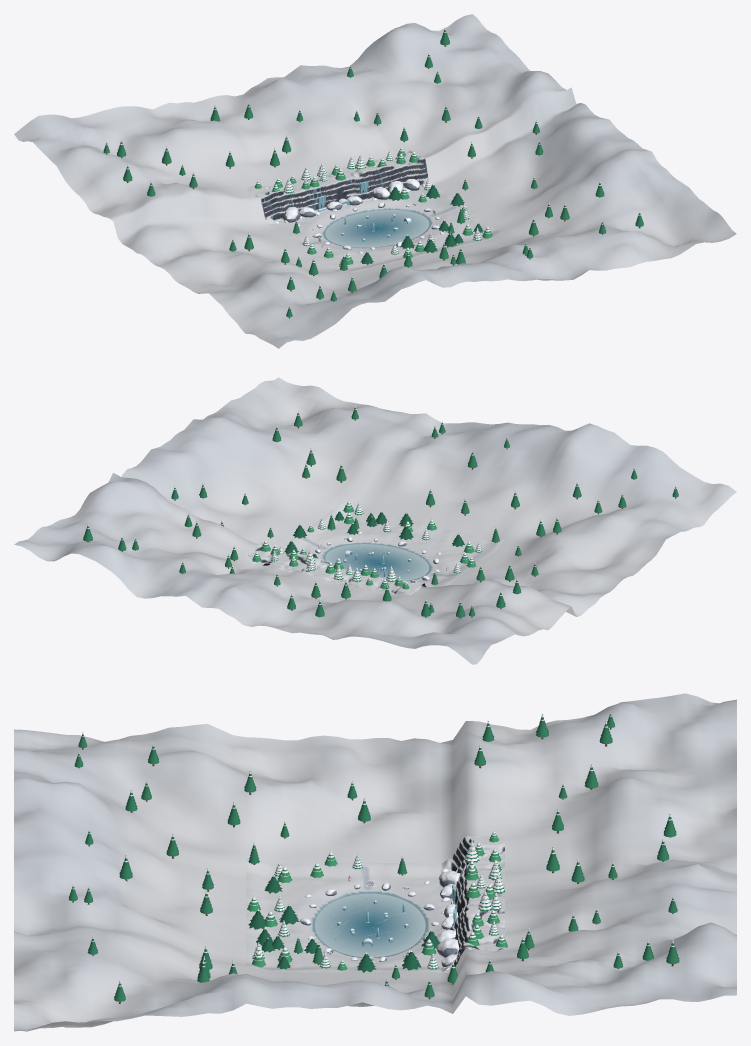
The model's file is ice_lake.glb.
3 views of the same model, one above another, from view 1: azimuth 30°, elevation 25°; view 2: azimuth 150°, elevation 25°; view 3: azimuth 270°, elevation 25° (orthographic). The views are drawn at different scales.
Parts seen in each view (by area): view 1: backdrop_hills, terrain, ice_cliff, ice_lake_surface; view 2: backdrop_hills, terrain, ice_lake_surface, ice_cliff; view 3: backdrop_hills, terrain, ice_lake_surface, ice_cliff.
Part boxes in pixels (x1=…): backdrop_hills: x1=14, y1=14, x2=736, y2=348; terrain: x1=246, y1=184, x2=504, y2=272; ice_cliff: x1=246, y1=150, x2=432, y2=225; ice_lake_surface: x1=325, y1=210, x2=429, y2=247; backdrop_hills: x1=14, y1=377, x2=736, y2=664; terrain: x1=247, y1=500, x2=504, y2=594; ice_lake_surface: x1=325, y1=544, x2=429, y2=581; ice_cliff: x1=246, y1=542, x2=426, y2=593; backdrop_hills: x1=14, y1=693, x2=736, y2=1031; terrain: x1=246, y1=858, x2=504, y2=972; ice_lake_surface: x1=315, y1=893, x2=425, y2=957; ice_cliff: x1=437, y1=836, x2=504, y2=972.
Size of the model in its own units: 280 by 45.26 by 280.
